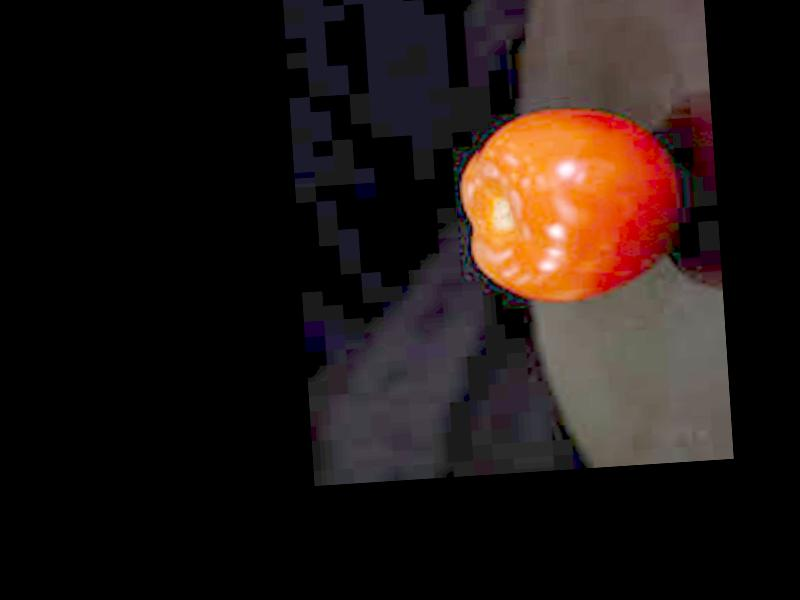Tomato: (456, 99, 680, 307)
